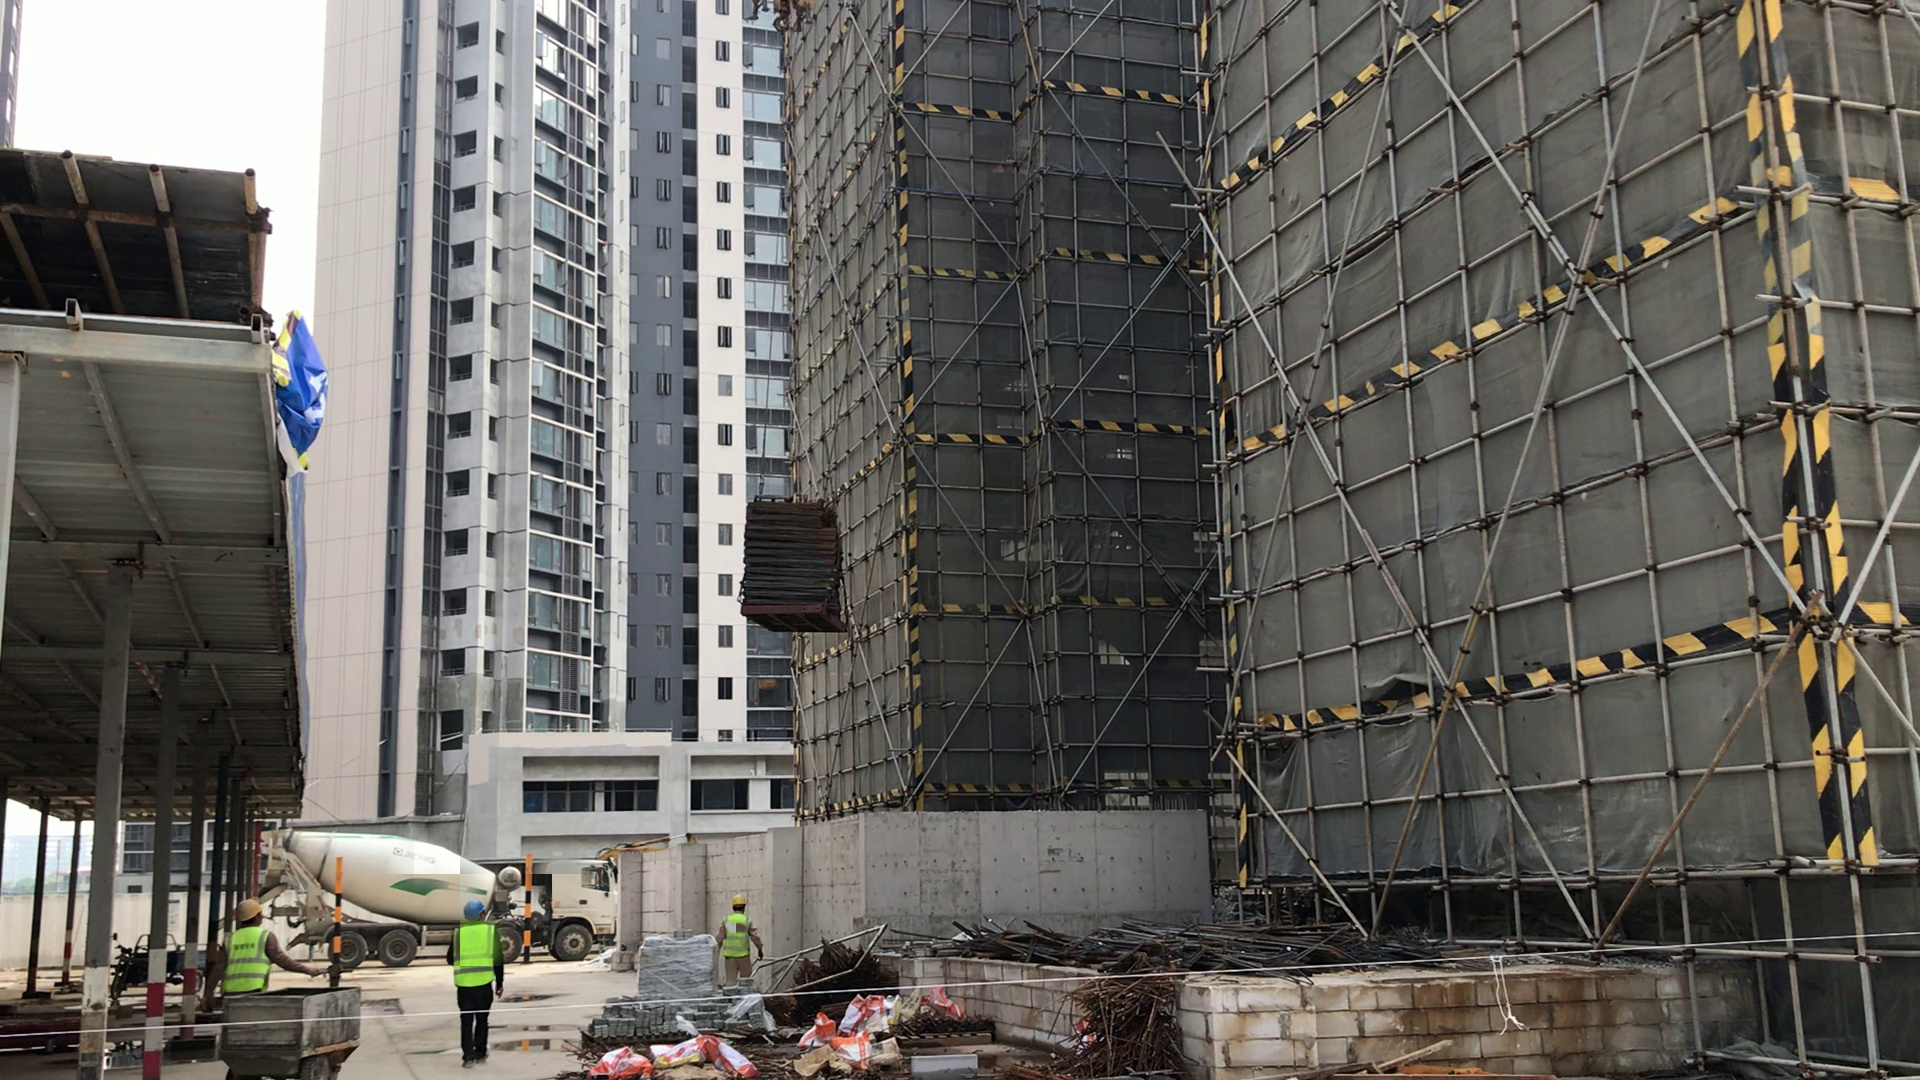helmet: (234, 893, 261, 928), (725, 892, 751, 914), (461, 898, 484, 923)
person: (210, 898, 346, 1001), (440, 895, 508, 1066), (706, 893, 771, 985)
vest: (221, 925, 277, 995), (455, 920, 503, 994), (718, 909, 756, 965)
